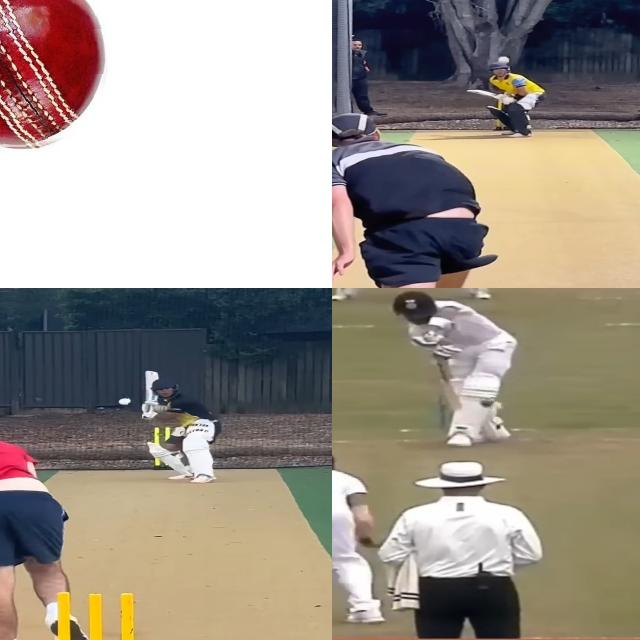Cricket ball: (0, 0, 111, 151), (479, 397, 498, 409), (116, 398, 133, 408), (497, 56, 511, 63)
Stumps: (46, 591, 151, 640)
